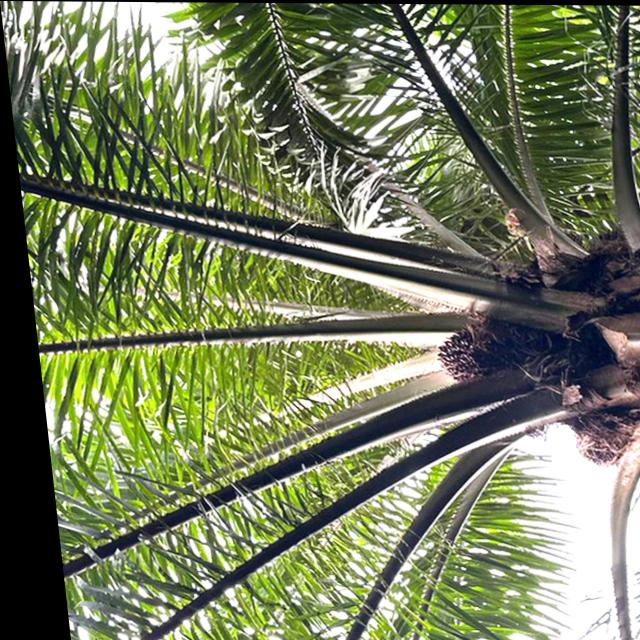ripe: (410, 321, 501, 394)
